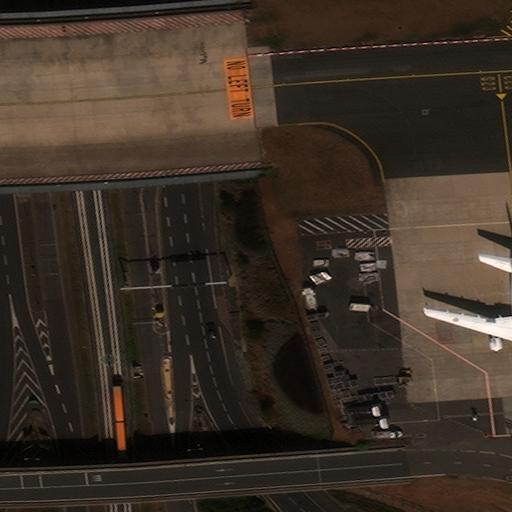Large Civil Transport: (424, 255, 511, 373)
